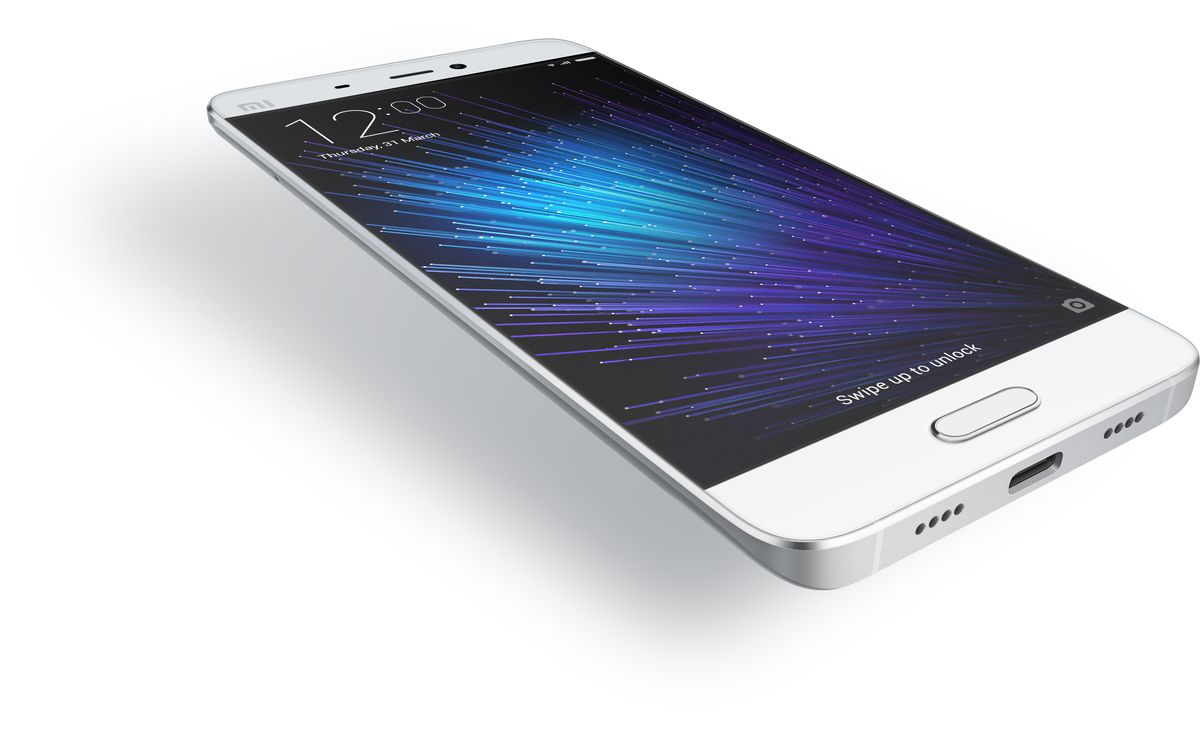smartphone: (208, 35, 1200, 591)
